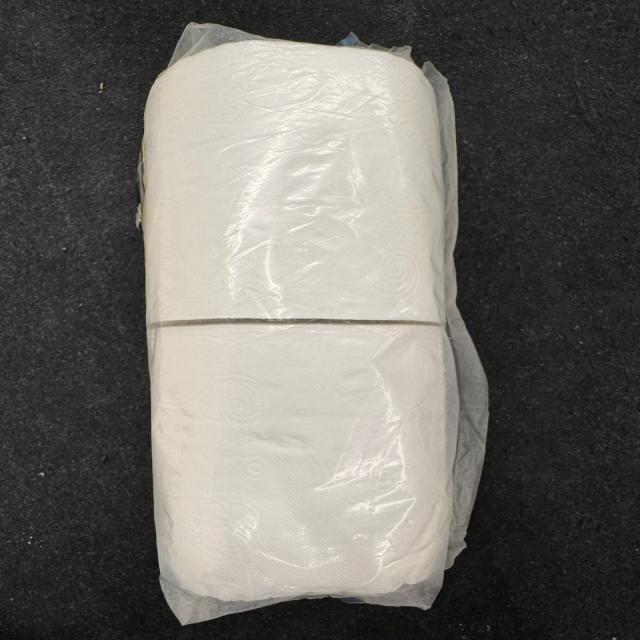Higienico Cottonelle Elegance XL 252h: (140, 16, 492, 632)
